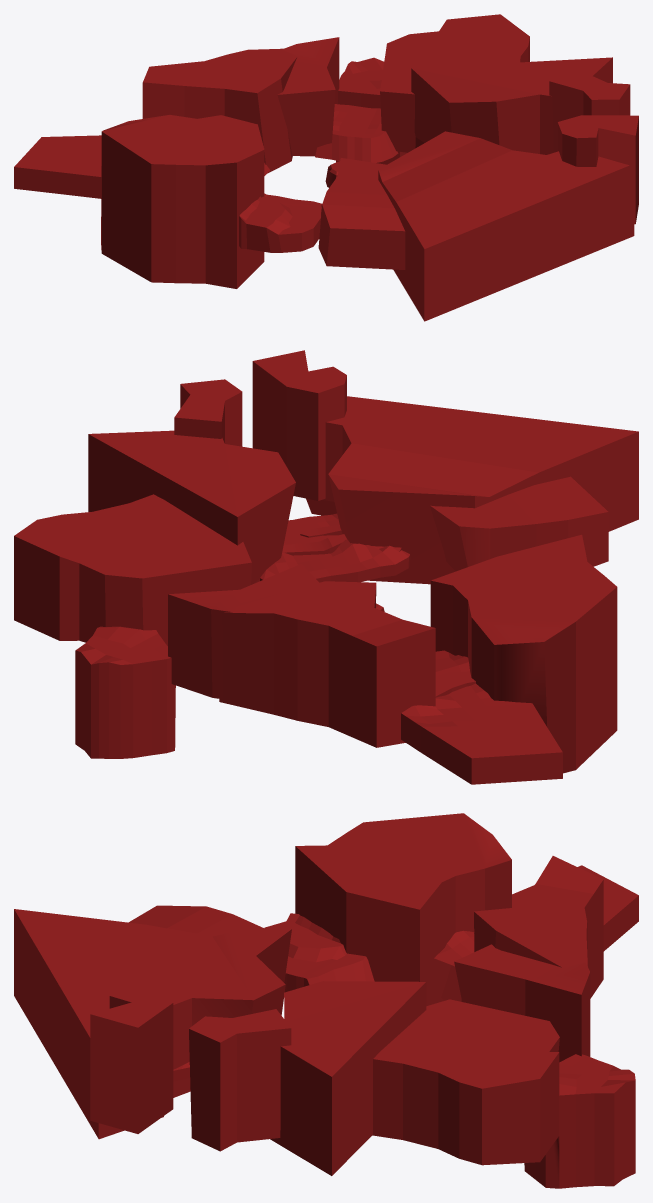
The model's file is Zone4Final 2.FBX.
3 renders of one model, top to bottom at view 1: azimuth 30°, elevation 25°; view 2: azimuth 150°, elevation 25°; view 3: azimuth 270°, elevation 25°, orthographic. The views are drawn at different scales.
Visible parts, largest first — view 1: New_Game_Object__1__1, New_Game_Object__2_, New_Game_Object_5, New_Game_Object_3, New_Game_Object_2, New_Game_Object_16, New_Game_Object_14, New_Game_Object_15, New_Game_Object__4__1, New_Game_Object_1, New_Game_Object_13, New_Game_Object (+1 smaller); view 2: New_Game_Object__1__1, New_Game_Object__2_, New_Game_Object_3, New_Game_Object_2, New_Game_Object_5, New_Game_Object__1_, New_Game_Object_15, New_Game_Object_16, New_Game_Object__4__1, New_Game_Object_14, New_Game_Object_4, New_Game_Object_13 (+2 smaller); view 3: New_Game_Object__1__1, New_Game_Object__2_, New_Game_Object_2, New_Game_Object_5, New_Game_Object_13, New_Game_Object__4__1, New_Game_Object__1_, New_Game_Object_3, New_Game_Object_14, New_Game_Object_16, New_Game_Object_1, New_Game_Object_15.
Part boxes in pixels (box(x1,y1,x2,y2)): New_Game_Object__1__1: box(378, 131, 634, 321); New_Game_Object__2_: box(101, 115, 264, 288); New_Game_Object_5: box(411, 57, 612, 154); New_Game_Object_3: box(142, 48, 297, 173); New_Game_Object_2: box(380, 14, 529, 152); New_Game_Object_16: box(318, 158, 405, 269); New_Game_Object_14: box(277, 37, 339, 156); New_Game_Object_15: box(14, 135, 270, 198); New_Game_Object__4__1: box(557, 115, 638, 224); New_Game_Object_1: box(239, 193, 322, 252); New_Game_Object_13: box(549, 69, 630, 152); New_Game_Object: box(315, 104, 398, 162); New_Game_Object__1__1: box(306, 396, 638, 584); New_Game_Object__2_: box(430, 534, 617, 773); New_Game_Object_3: box(219, 581, 435, 747); New_Game_Object_2: box(14, 494, 251, 645); New_Game_Object_5: box(88, 430, 295, 584); New_Game_Object__1_: box(75, 626, 175, 758); New_Game_Object_15: box(401, 650, 562, 784); New_Game_Object_16: box(430, 476, 608, 571); New_Game_Object__4__1: box(252, 350, 346, 500); New_Game_Object_14: box(168, 564, 318, 699); New_Game_Object_4: box(260, 513, 410, 582); New_Game_Object_13: box(174, 379, 242, 446); New_Game_Object__1__1: box(14, 909, 285, 1139); New_Game_Object__2_: box(295, 813, 511, 1006); New_Game_Object_2: box(372, 999, 559, 1165); New_Game_Object_5: box(270, 981, 426, 1175); New_Game_Object_13: box(189, 1009, 291, 1151); New_Game_Object__4__1: box(90, 983, 173, 1133); New_Game_Object__1_: box(524, 1054, 635, 1188); New_Game_Object_3: box(474, 856, 603, 998); New_Game_Object_14: box(454, 944, 590, 1062); New_Game_Object_16: box(128, 905, 291, 982); New_Game_Object_1: box(264, 913, 374, 992); New_Game_Object_15: box(426, 865, 638, 1001).
Size of the model in its own units: 52514 by 15981 by 47858.
